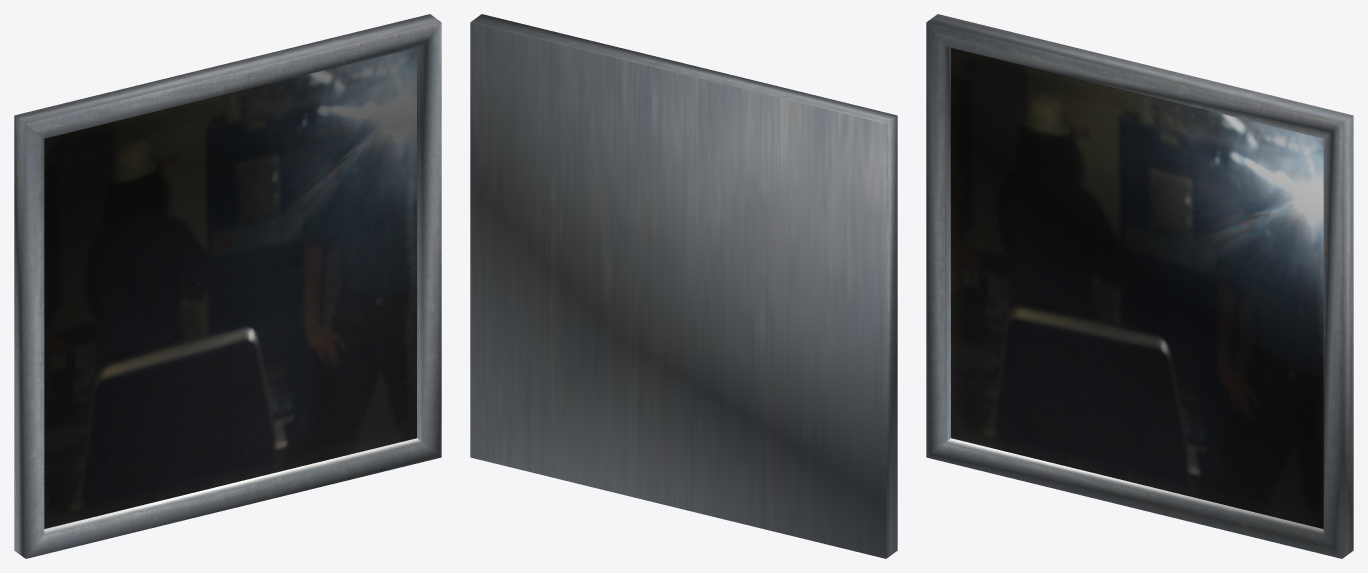
File: barber_mirror.obj
The picture shows the model from 3 angles, left to right: view 1: azimuth 30°, elevation 25°; view 2: azimuth 150°, elevation 25°; view 3: azimuth 330°, elevation 25°; orthographic projection.
Visible parts, largest first — view 1: barber_mirror.obj; view 2: barber_mirror.obj; view 3: barber_mirror.obj.
Boxes of the visible parts, x1,y1,x2,y2 form: barber_mirror.obj: [14, 14, 441, 558]; barber_mirror.obj: [470, 14, 897, 558]; barber_mirror.obj: [926, 14, 1353, 558].
Size of the model in its own units: 5.53 by 5.53 by 0.2639.
